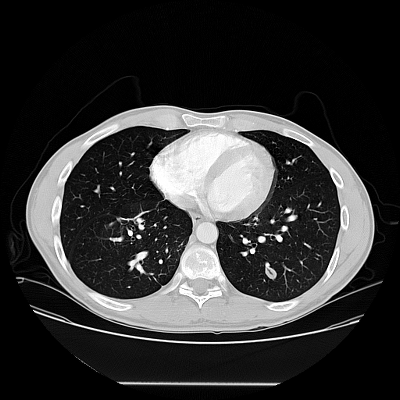nodule: (265, 267, 277, 279)
